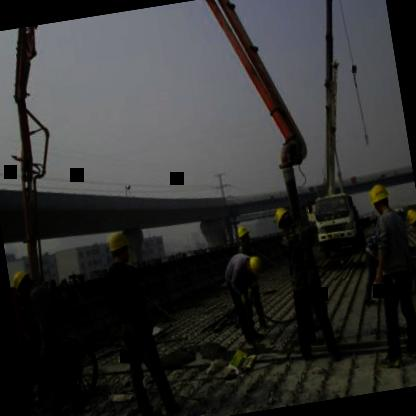helmet: (102, 225, 134, 268), (366, 180, 394, 216), (12, 267, 34, 298), (270, 204, 293, 233), (242, 250, 264, 278), (232, 223, 252, 245), (401, 206, 416, 233)
